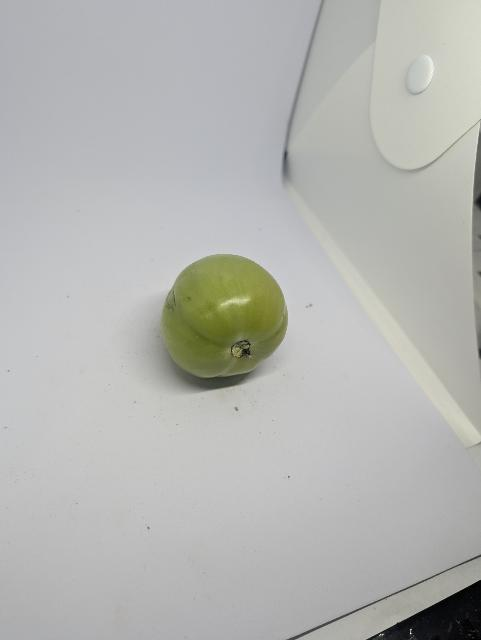green: (146, 238, 328, 399)
